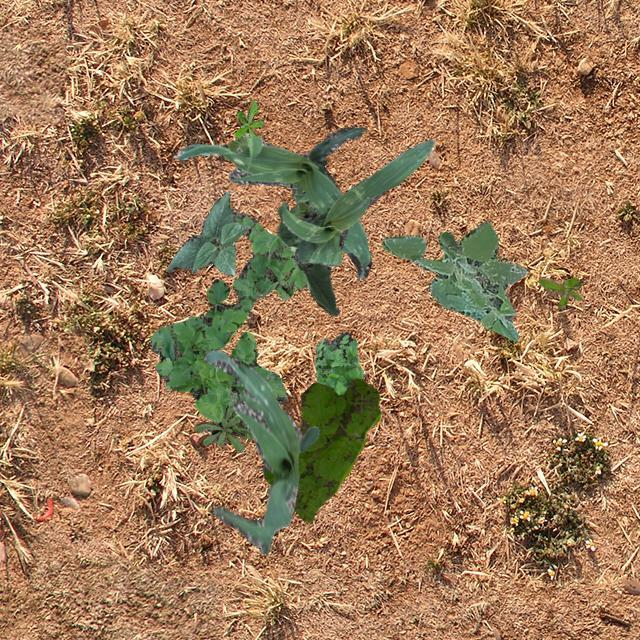crop: (172, 125, 370, 278), (202, 348, 318, 552), (276, 138, 434, 264), (166, 190, 252, 274), (276, 203, 338, 314)
weed: (148, 206, 306, 426), (381, 220, 526, 340), (262, 378, 379, 520), (194, 392, 252, 452), (314, 330, 362, 394), (538, 276, 580, 308), (234, 100, 262, 138)
